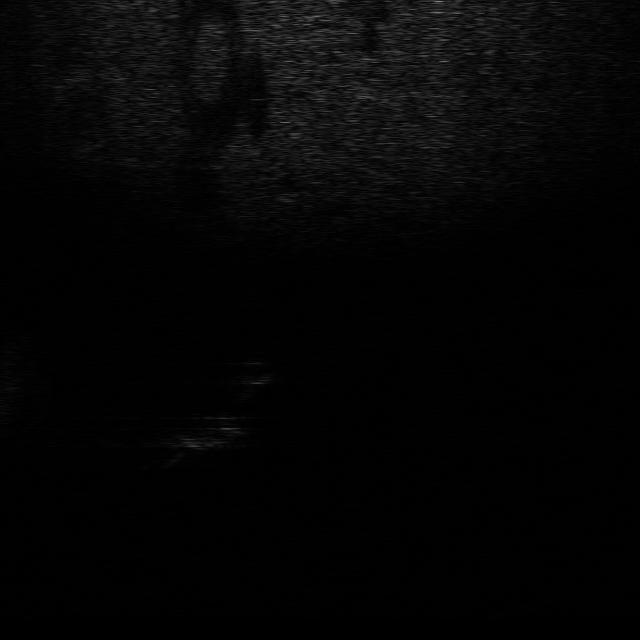ball: (230, 355, 280, 389)
square cage: (155, 426, 217, 470)
tyre: (172, 407, 248, 452)
